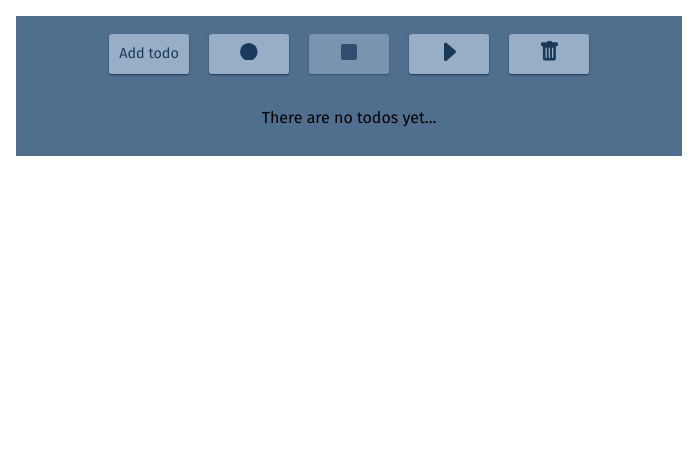
App › Buttons work as expected › Add button inside AddTodoForm adds Todo to the list
Click the button "Add todo" at (149, 54), box [109,34,189,74]
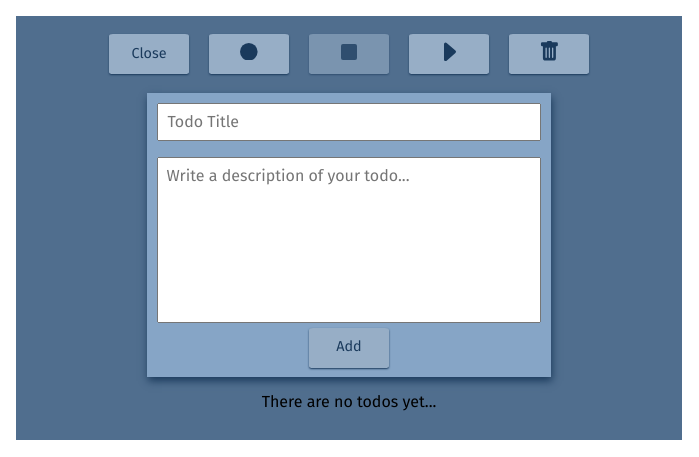
Type "My Todo" into the field with placeholder "Todo Title" at (349, 122), box [157,103,541,141]
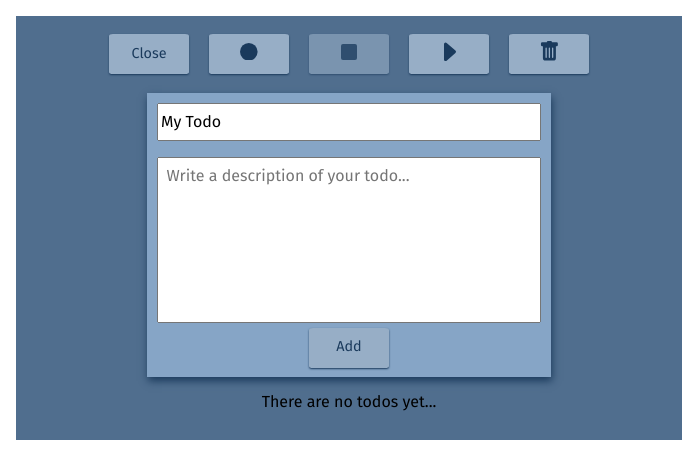
Type "Test Todo desc" into the text box with placeholder "Write a description of your todo..." at (349, 240), box [157,157,541,323]
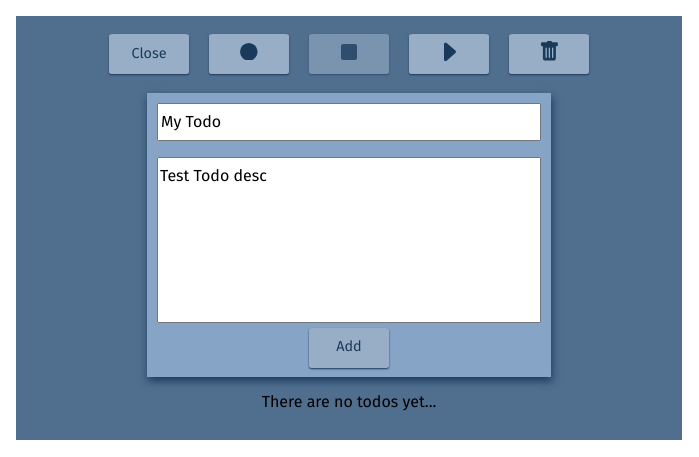
Click the button "Add" at (349, 348), box [309,328,389,368]
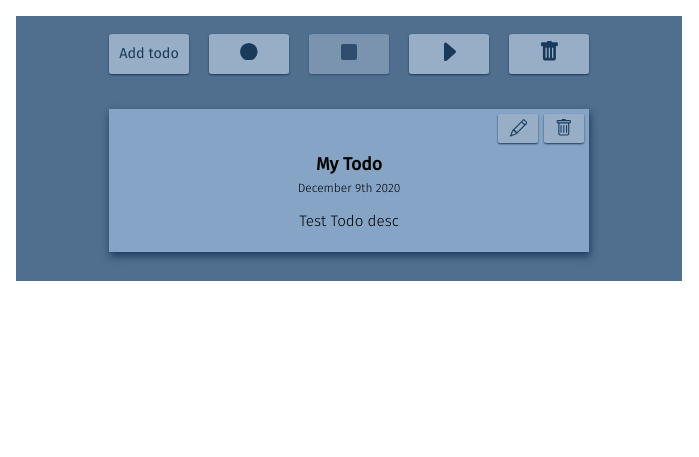
Expected: the heading "My Todo" is shown, [316,154,382,175]
Expected: the text "Test Todo desc" is shown, [299,212,399,230]
